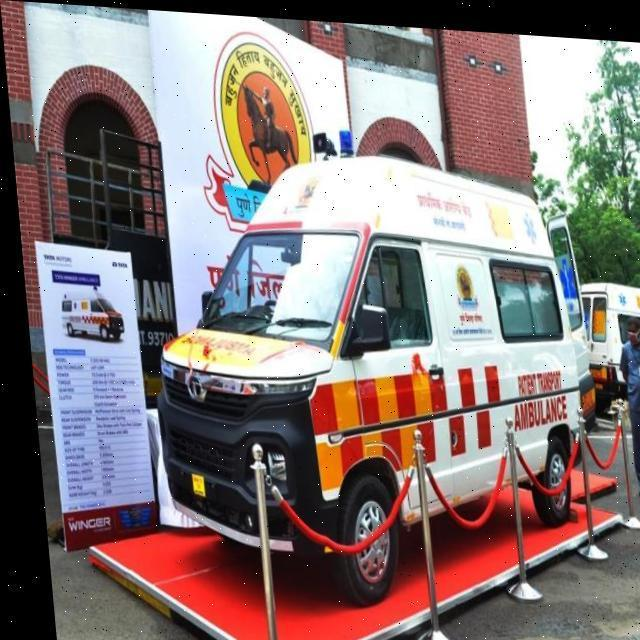Ambulance: (125, 133, 606, 617), (26, 365, 640, 640), (569, 270, 640, 420), (604, 306, 640, 500), (50, 282, 122, 346)
